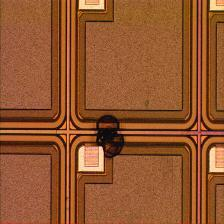COATING BAD: (93, 113, 129, 161)
